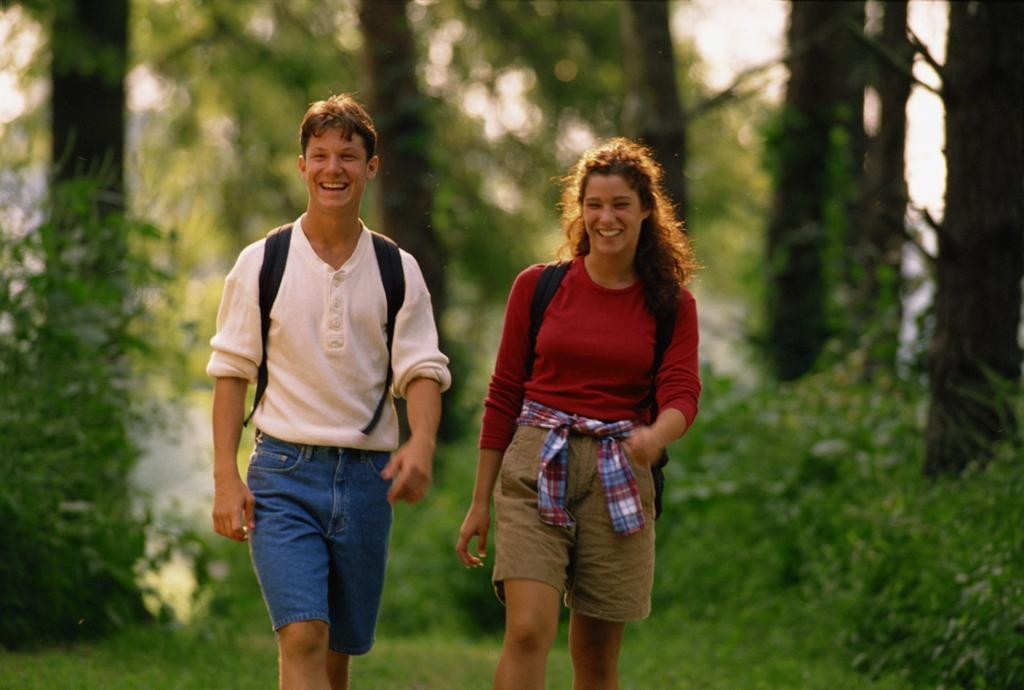face: (582, 170, 640, 256), (306, 122, 366, 204)
